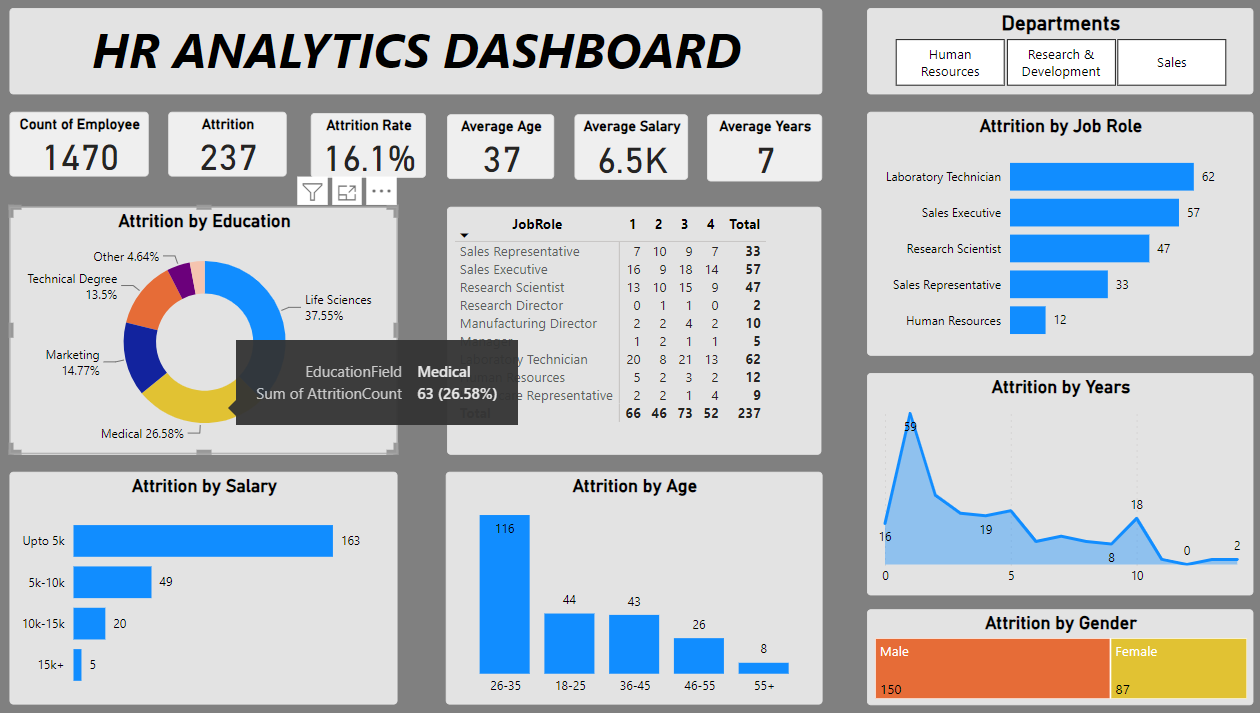

The dashboard page shown, as its layout file describes it:
{"tool":"powerbi","page":{"name":"Page 1","canvas":[1280,720],"ordinal":0},"visuals":[{"type":"card","title":"Count of Employee","fields":{"Values":["CountNonNull(HR_Analytics.EmpID)"]},"box":[17,113.8,139.4,64.9],"z":0},{"type":"card","title":"Attrition","fields":{"Values":["Sum(HR_Analytics.AttritionCount)"]},"box":[176.6,113.8,118.1,64.9],"z":1000},{"type":"card","title":"Attrition Rate","fields":{"Values":["HR_Analytics.AttritionRate"]},"box":[319.1,114.9,114.9,64.9],"z":2000},{"type":"card","title":"Average Age ","fields":{"Values":["Avg(HR_Analytics.Age)"]},"box":[455.3,116,107.4,64.9],"z":3000},{"type":"card","title":"Average Salary","fields":{"Values":["Avg(HR_Analytics.MonthlyIncome)"]},"box":[583,116,113.8,66],"z":4000},{"type":"card","title":"Average Years ","fields":{"Values":["Avg(HR_Analytics.YearsAtCompany)"]},"box":[714.9,116,114.9,67],"z":5000},{"type":"donutChart","title":"Attrition by Education","fields":{"Category":["HR_Analytics.EducationField"],"Y":["Sum(HR_Analytics.AttritionCount)"]},"box":[17,208.5,388.3,247.9],"z":6000},{"type":"columnChart","title":"Attrition by Age","fields":{"Category":["HR_Analytics.AgeGroup"],"Y":["Sum(HR_Analytics.AttritionCount)"]},"box":[453.2,473.4,376.6,233],"z":7000},{"type":"pivotTable","fields":{"Rows":["HR_Analytics.JobRole"],"Columns":["HR_Analytics.JobSatisfaction"],"Values":["Sum(HR_Analytics.AttritionCount)"]},"box":[455.3,208.5,374.5,247.9],"z":8000},{"type":"barChart","title":"Attrition by Salary","fields":{"Category":["HR_Analytics.SalarySlab"],"Y":["Sum(HR_Analytics.AttritionCount)"]},"box":[17,473.4,388.3,233],"z":9000},{"type":"barChart","title":"Attrition by Job Role","fields":{"Category":["HR_Analytics.JobRole"],"Y":["Sum(HR_Analytics.AttritionCount)"]},"box":[875.5,113.8,386.2,243.6],"z":10000},{"type":"areaChart","title":"Attrition by Years","fields":{"Category":["HR_Analytics.YearsAtCompany"],"Y":["Sum(HR_Analytics.AttritionCount)"]},"box":[875,375,386.2,222.5],"z":11000},{"type":"treemap","title":"Attrition by Gender","fields":{"Group":["HR_Analytics.Gender"],"Values":["Sum(HR_Analytics.AttritionCount)"]},"box":[875.5,610.6,386.2,95.7],"z":12000},{"type":"slicer","title":"Departments","fields":{"Values":["HR_Analytics.Department"]},"box":[875.5,9.6,386.2,86.2],"z":13000},{"type":"textbox","box":[17,9.6,812.8,86.2],"z":14000}]}

Visuals, with their boxes in screenshot pixels (x1, y1, x2, y2), scaled from the page's 1280x720 canvas onto the 1260x713 screenshot:
"Count of Employee" card: x1=17 y1=113 x2=154 y2=177
"Attrition" card: x1=174 y1=113 x2=290 y2=177
"Attrition Rate" card: x1=314 y1=114 x2=427 y2=178
"Average Age " card: x1=448 y1=115 x2=554 y2=179
"Average Salary" card: x1=574 y1=115 x2=686 y2=180
"Average Years " card: x1=704 y1=115 x2=817 y2=181
"Attrition by Education" donutChart: x1=17 y1=206 x2=399 y2=452
"Attrition by Age" columnChart: x1=446 y1=469 x2=817 y2=700
pivotTable - HR_Analytics.JobRole x HR_Analytics.JobSatisfaction: x1=448 y1=206 x2=817 y2=452
"Attrition by Salary" barChart: x1=17 y1=469 x2=399 y2=700
"Attrition by Job Role" barChart: x1=862 y1=113 x2=1242 y2=354
"Attrition by Years" areaChart: x1=861 y1=371 x2=1241 y2=592
"Attrition by Gender" treemap: x1=862 y1=605 x2=1242 y2=699
"Departments" slicer: x1=862 y1=10 x2=1242 y2=95
textbox: x1=17 y1=10 x2=817 y2=95
